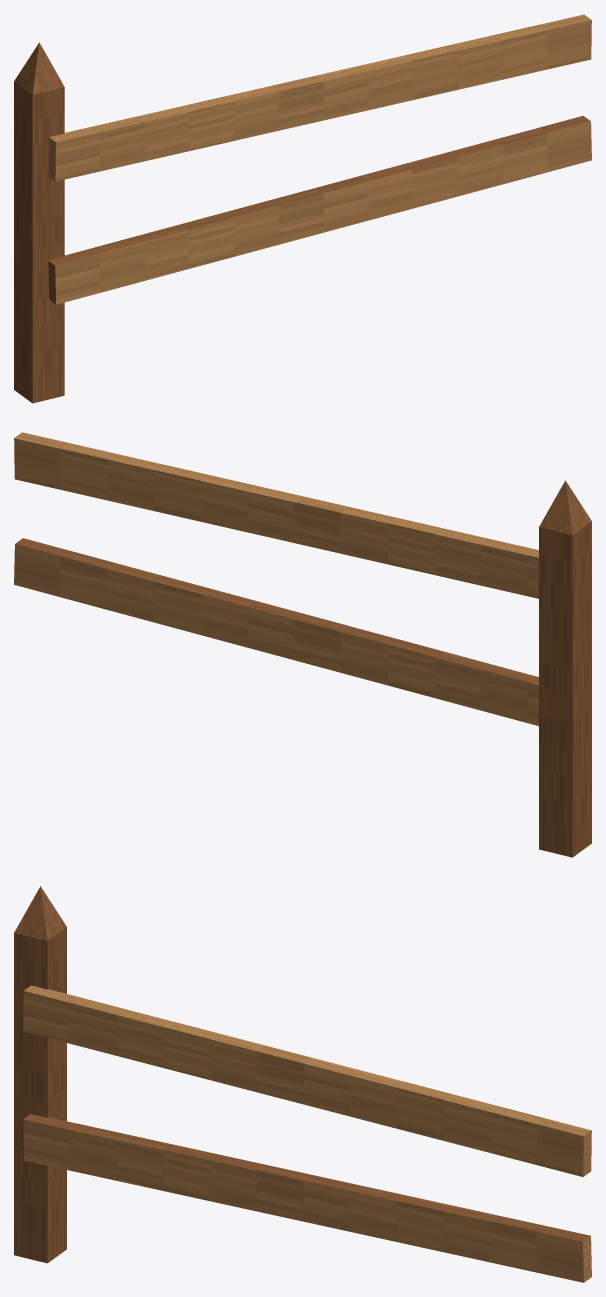
File: fence_wood.glb
3 renders of one model, top to bottom at view 1: azimuth 30°, elevation 25°; view 2: azimuth 150°, elevation 25°; view 3: azimuth 330°, elevation 25°, orthographic. The views are drawn at different scales.
Parts seen in each view (by area): view 1: fence_wood; view 2: fence_wood; view 3: fence_wood.
Part boxes in pixels (<box>): fence_wood: <box>14,14,591,403</box>; fence_wood: <box>14,432,591,857</box>; fence_wood: <box>14,886,591,1282</box>.
Bounding box in the file's own units: 2.06 × 1.25 × 0.1651.
Materials: 1 (1 with a texture image).
